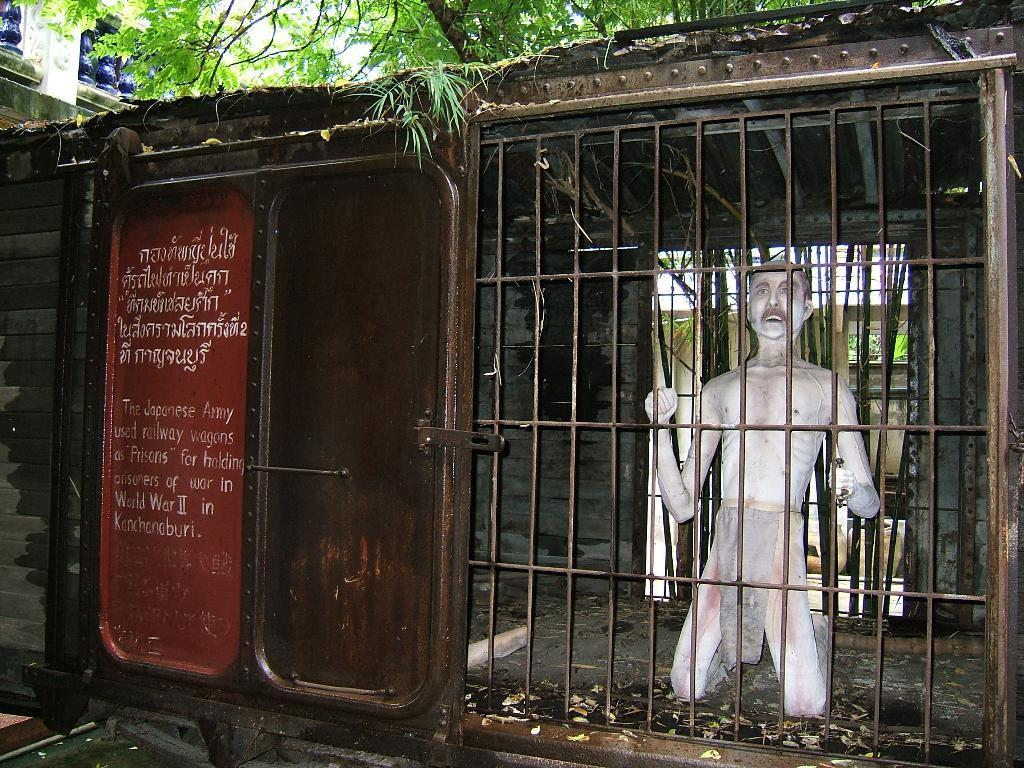door: (279, 197, 429, 673), (435, 645, 439, 656)
handle: (248, 447, 350, 482)
